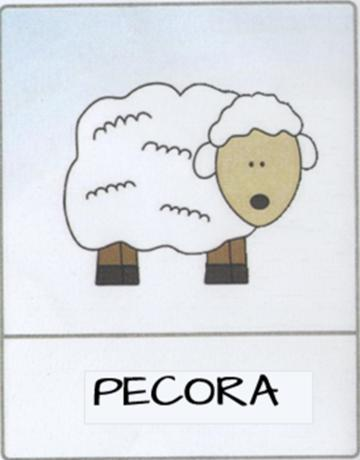pecora: (3, 1, 360, 460)
